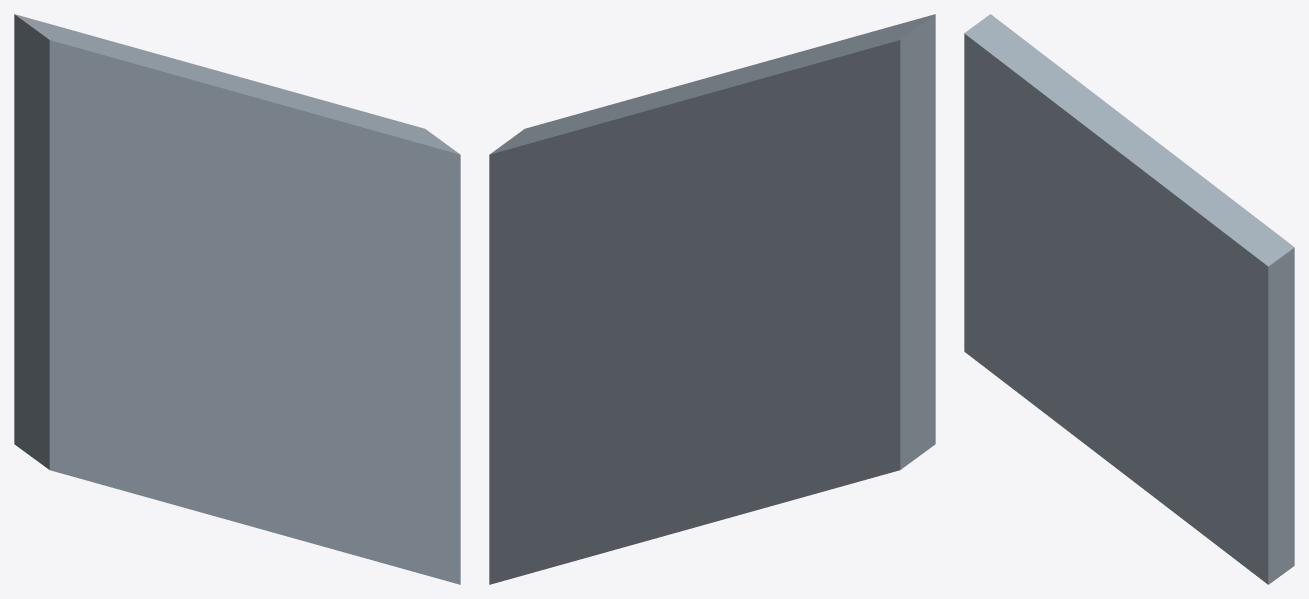
Rendered from SM_Wall_2M_Ramp_1v.fbx.
3 views of the same model, side by side, from view 1: azimuth 30°, elevation 25°; view 2: azimuth 150°, elevation 25°; view 3: azimuth 330°, elevation 25° (orthographic). The views are drawn at different scales.
Visible parts, largest first — view 1: SM_Wall_2M_Ramp_1v; view 2: SM_Wall_2M_Ramp_1v; view 3: SM_Wall_2M_Ramp_1v.
Boxes of the visible parts, box(x1,y1,x2,y2) form: SM_Wall_2M_Ramp_1v: box(14, 14, 460, 584); SM_Wall_2M_Ramp_1v: box(489, 14, 935, 584); SM_Wall_2M_Ramp_1v: box(964, 14, 1294, 584).
Bounding box in the file's own units: 200 × 300 × 30.
